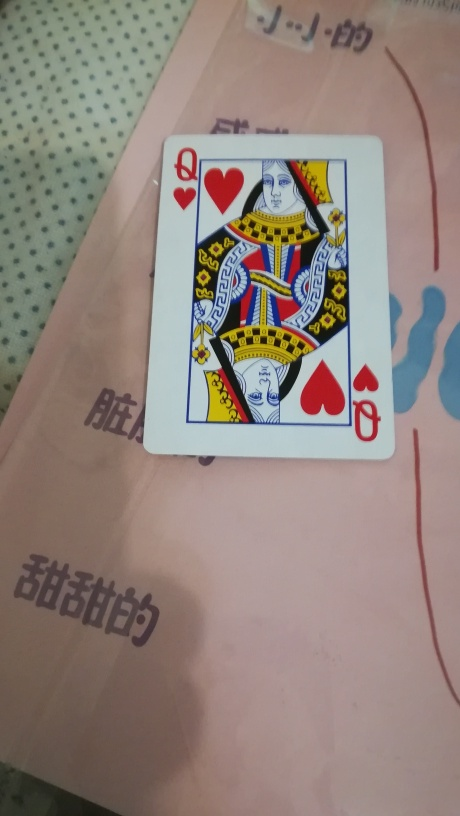mh 6: (136, 132, 398, 464)
